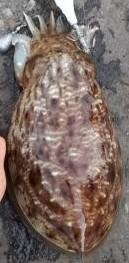Cephalopod: (0, 11, 120, 251)
